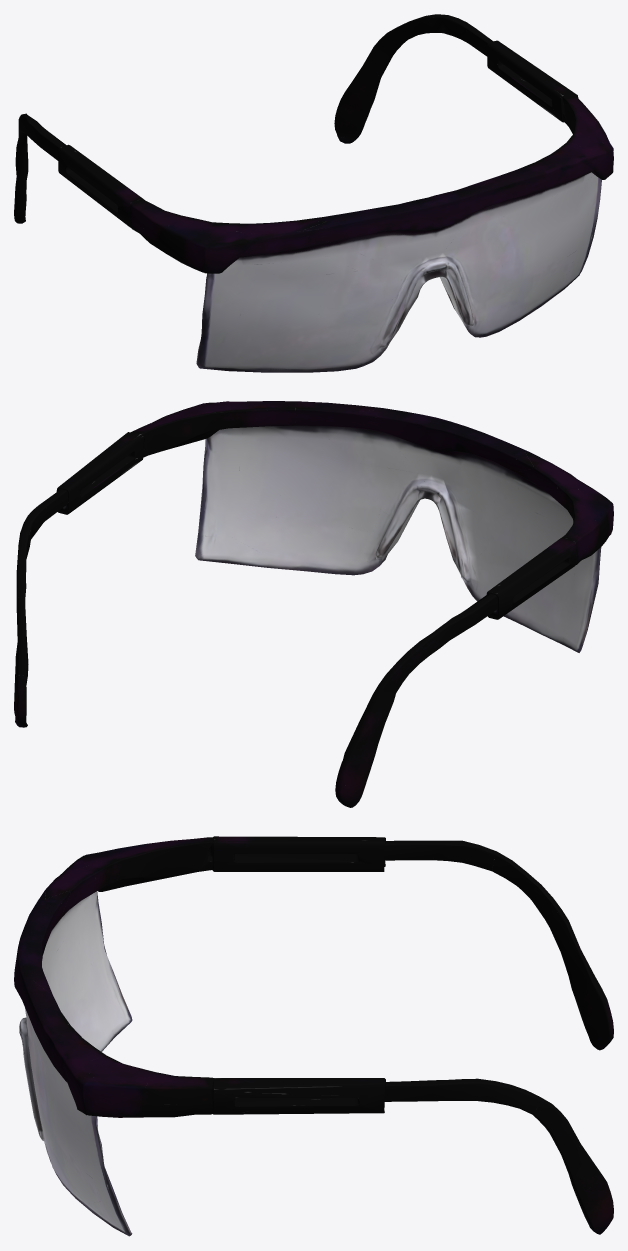
Rendered from SafetyGlasses_low.fbx.
3 renders of one model, top to bottom at view 1: azimuth 30°, elevation 25°; view 2: azimuth 150°, elevation 25°; view 3: azimuth 270°, elevation 25°, orthographic. The views are drawn at different scales.
Parts seen in each view (by area): view 1: SafetyGlasses_low; view 2: SafetyGlasses_low; view 3: SafetyGlasses_low.
Part boxes in pixels (x1,y1,x2,y2): SafetyGlasses_low: (14,14,613,372); SafetyGlasses_low: (14,401,613,807); SafetyGlasses_low: (14,836,613,1236).
Size of the model in its own units: 95.8 by 33.4 by 95.41.
